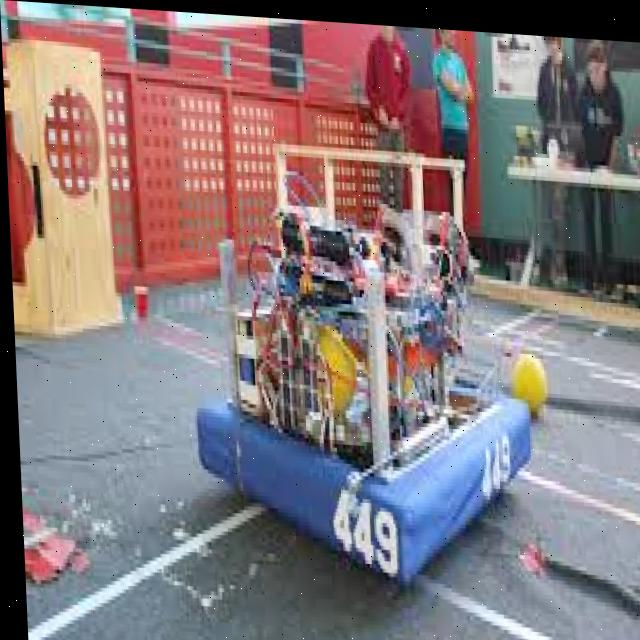robot: (183, 188, 538, 591)
